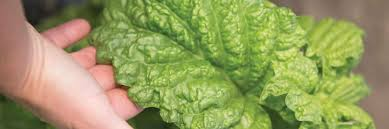lettuce: (100, 2, 389, 129)
